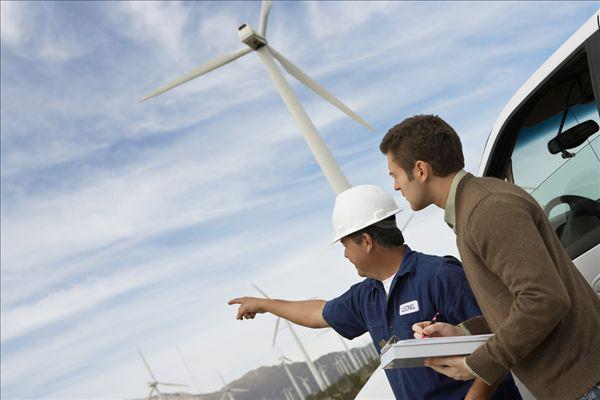head: (377, 110, 470, 214)
helmet: (328, 183, 404, 272)
